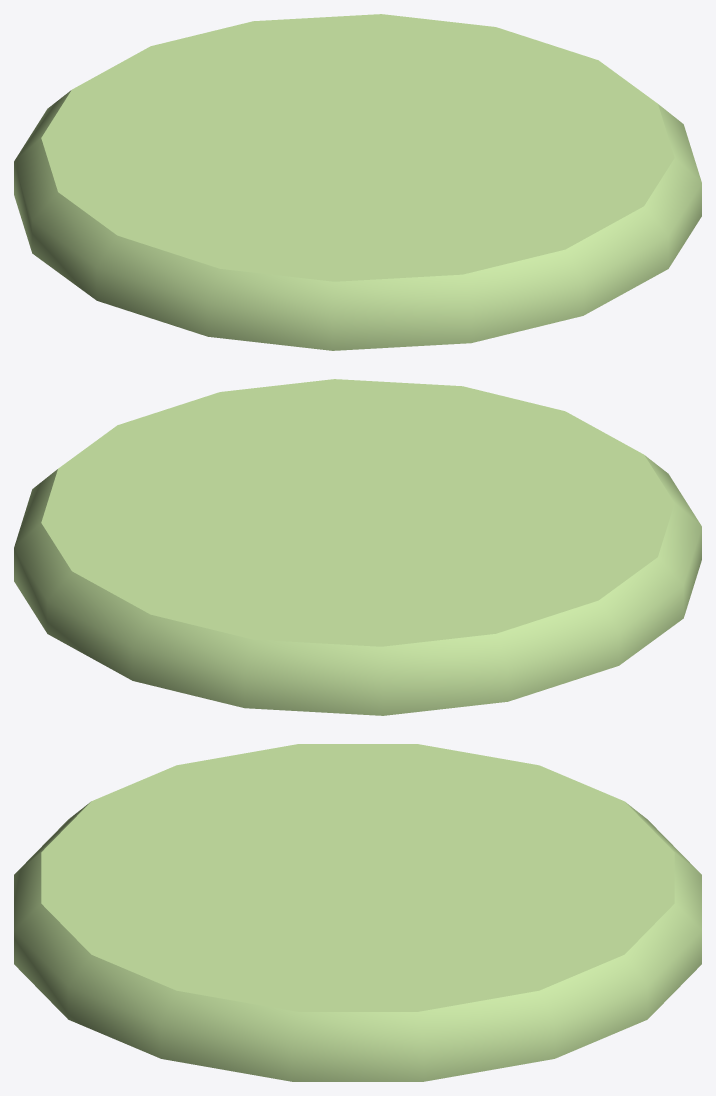
The model's file is Boton.fbx.
The picture shows the model from 3 angles, top to bottom: view 1: azimuth 30°, elevation 25°; view 2: azimuth 150°, elevation 25°; view 3: azimuth 270°, elevation 25°; orthographic projection.
Parts seen in each view (by area): view 1: Boton; view 2: Boton; view 3: Boton.
Boxes of the visible parts, bbox=[...] form: Boton: bbox=[14, 14, 701, 350]; Boton: bbox=[14, 379, 701, 715]; Boton: bbox=[14, 744, 701, 1081].
Bounding box in the file's own units: 0.0397 × 0.00372 × 0.0397.
